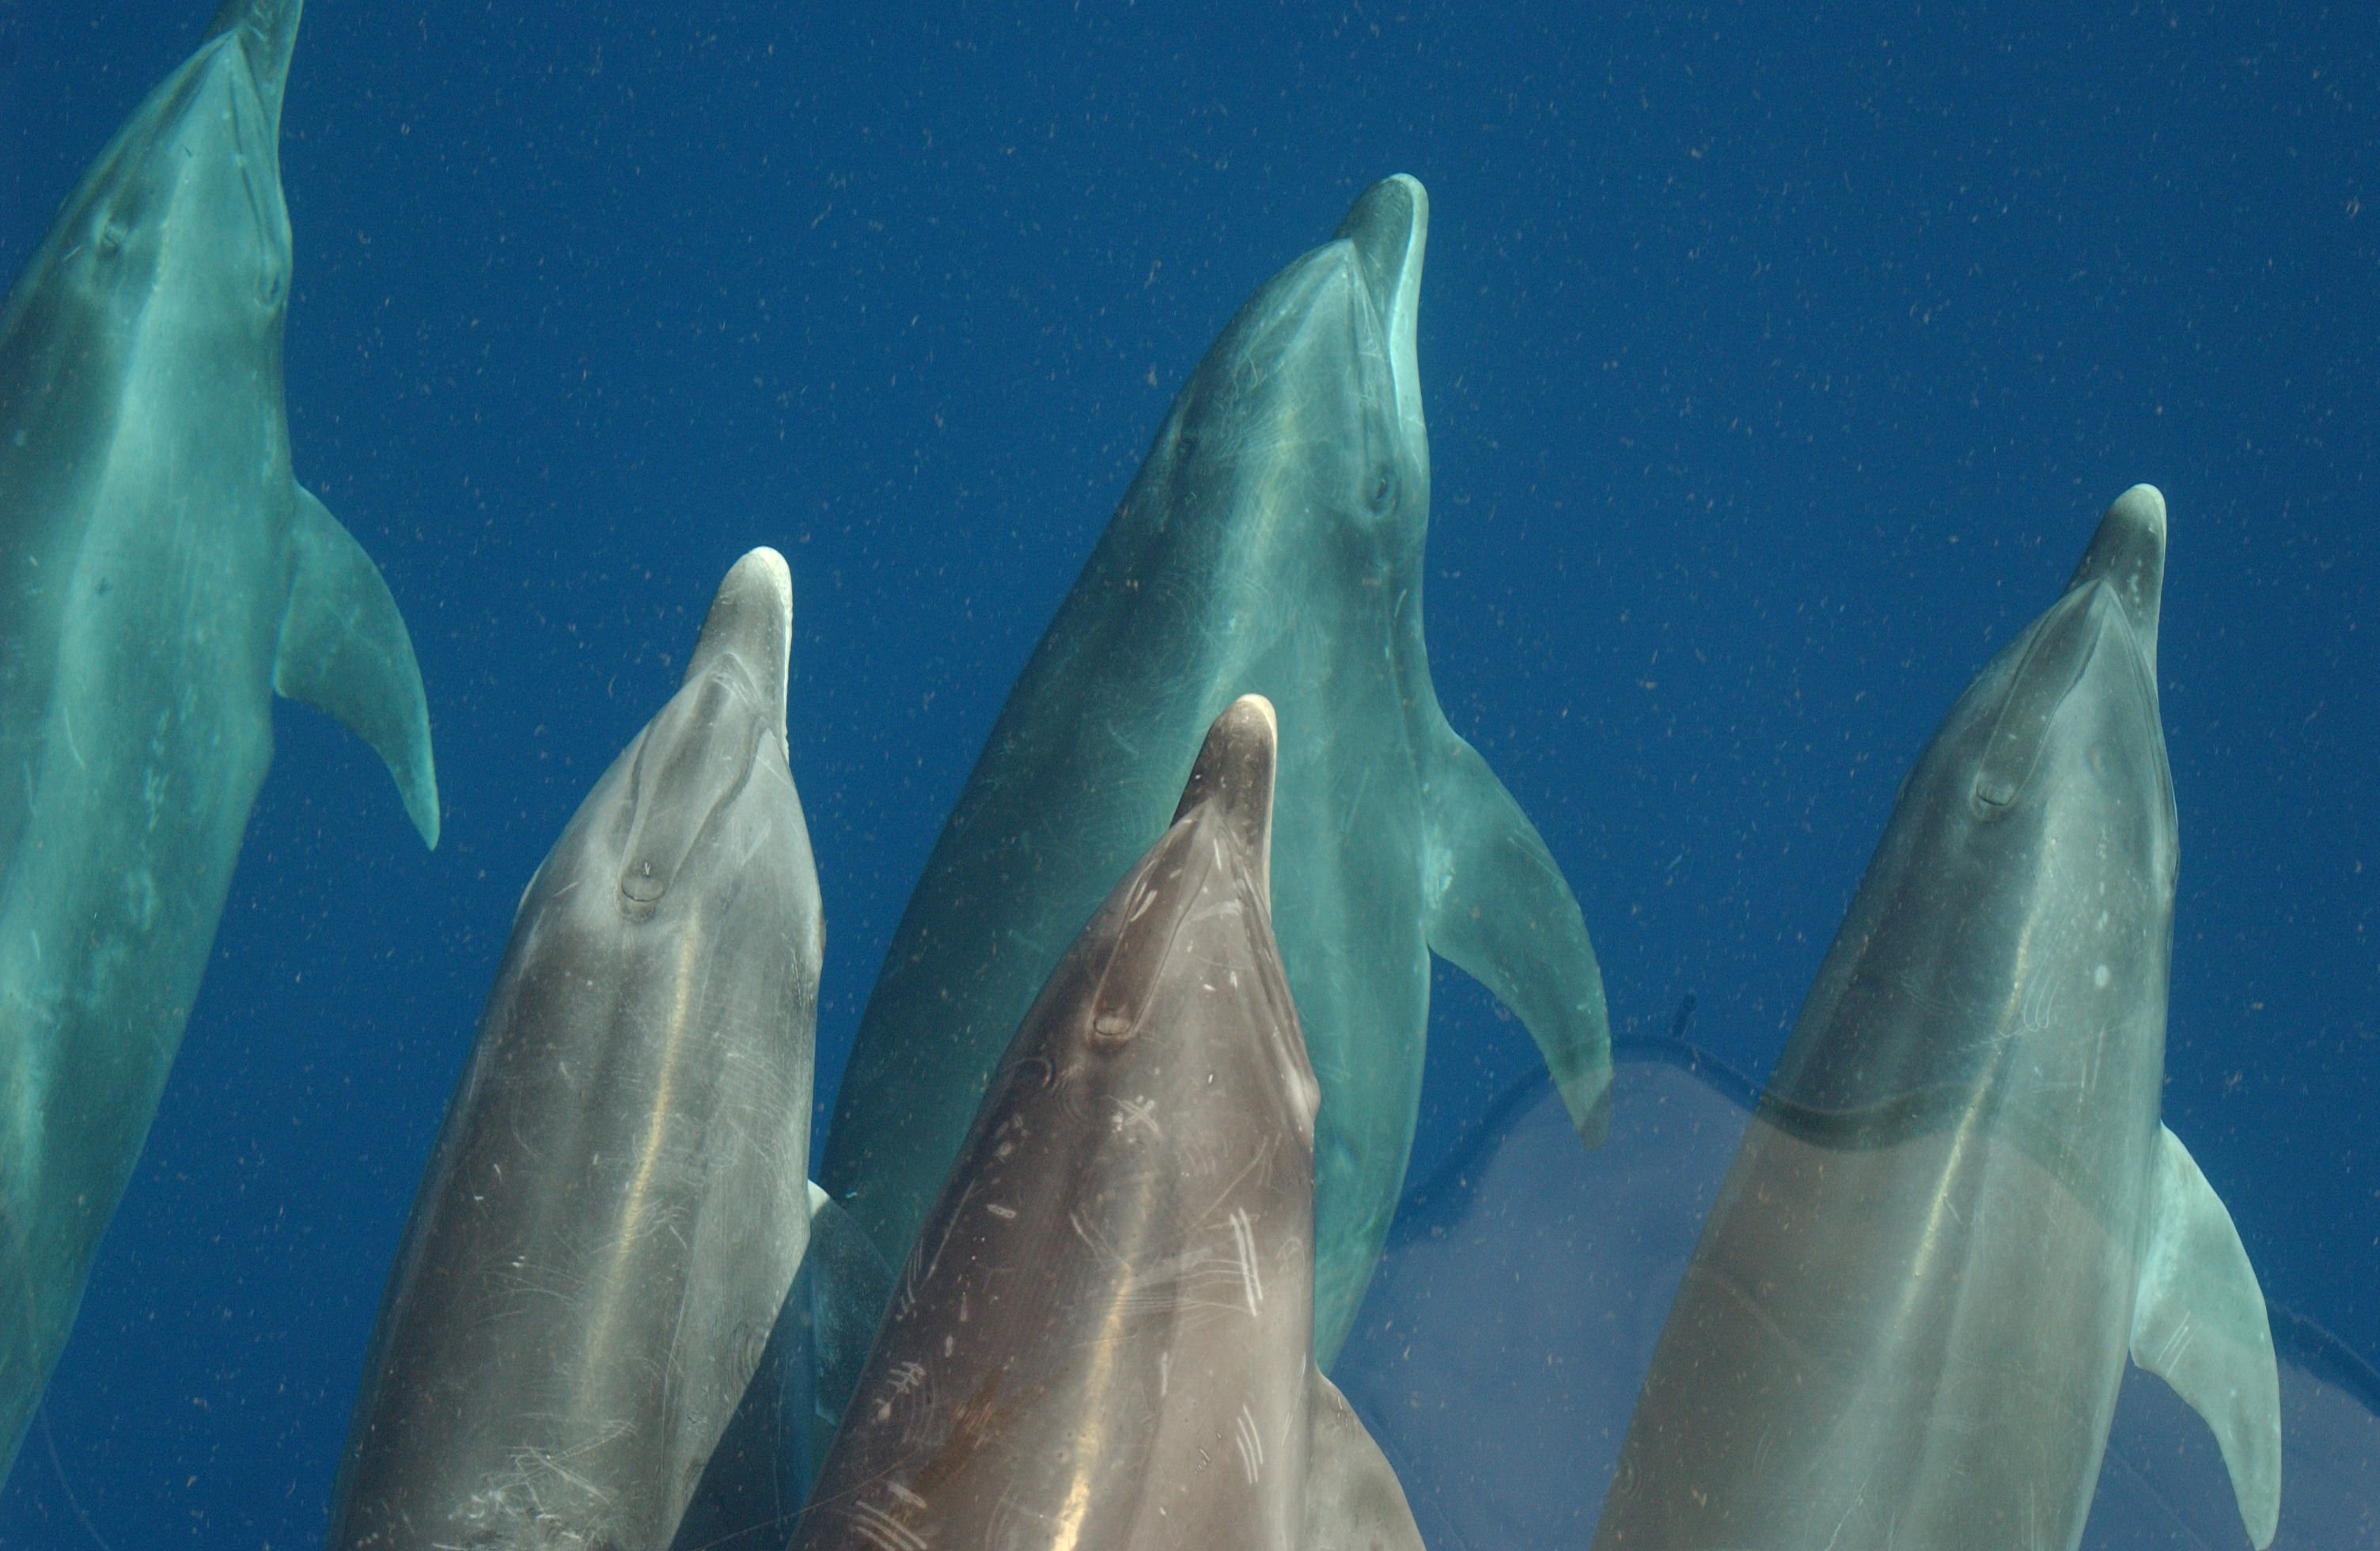dolphin: (803, 167, 1620, 1551), (1622, 484, 2285, 1551), (0, 0, 439, 1542), (359, 534, 827, 1551), (883, 690, 1422, 1551)
